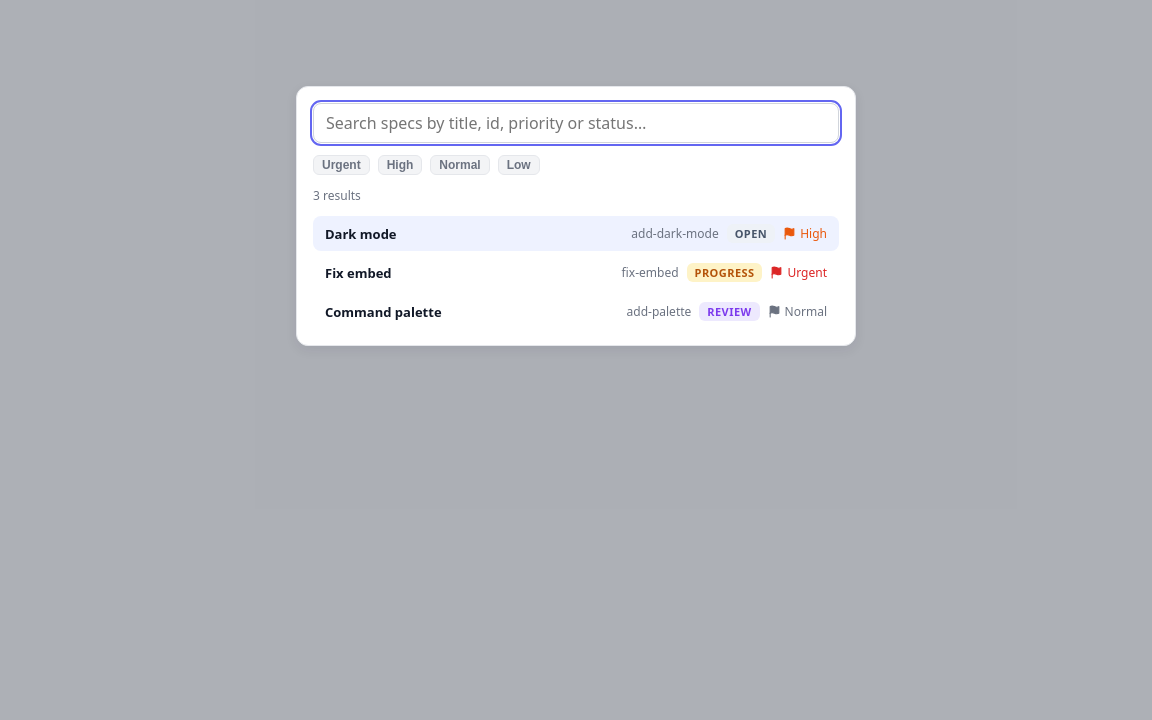
Test case: CommandPalette › renders the No results empty state without crashing
This screenshot has width=1152, height=720.
Type "zzz-no-match" into the dropdown at (576, 123), box [313,103,839,143]
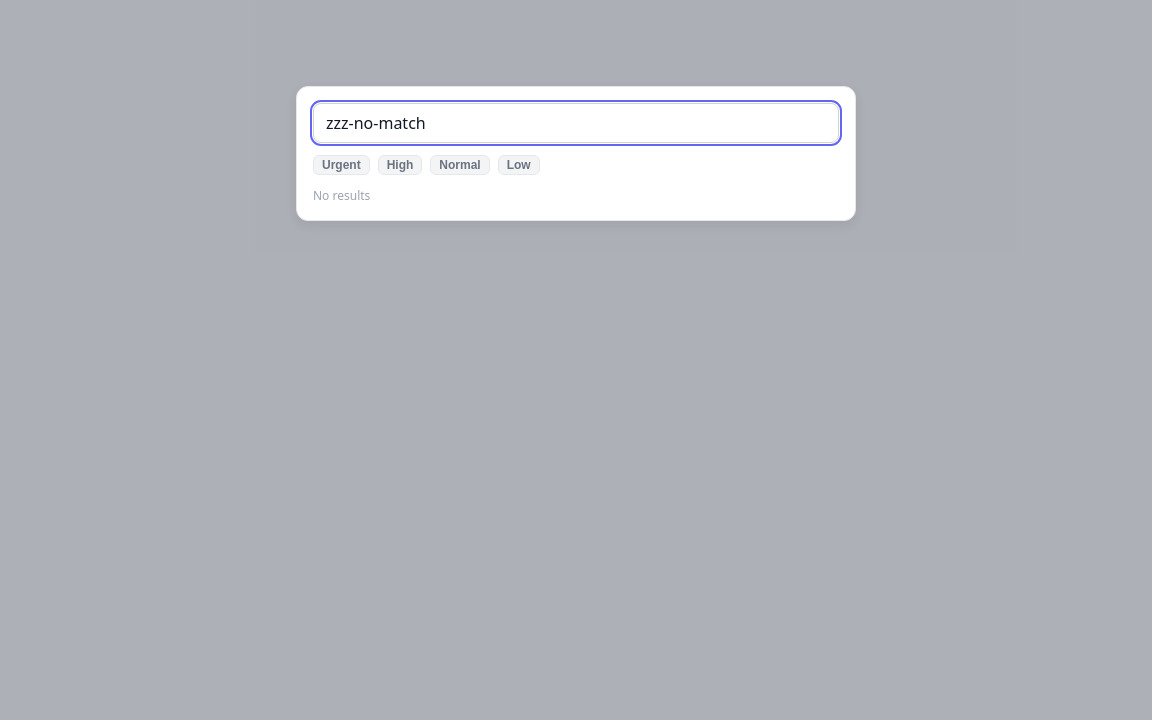
Now the text "No results" is shown, box [313,187,370,204]
Now no options are shown
